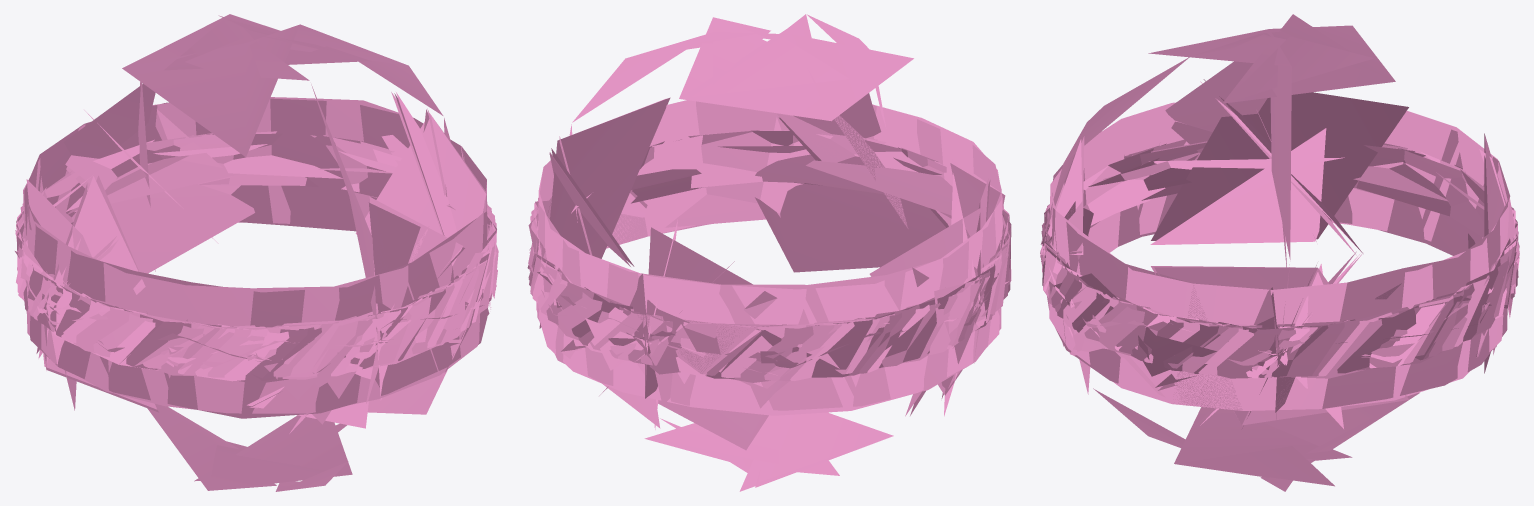
3 renders of one model, left to right at view 1: azimuth 30°, elevation 25°; view 2: azimuth 150°, elevation 25°; view 3: azimuth 270°, elevation 25°, orthographic.
Visible parts, largest first — view 1: 21-21-safety; view 2: 21-21-safety; view 3: 21-21-safety.
Boxes of the visible parts, x1,y1,x2,y2 form: 21-21-safety: (15,14,498,491); 21-21-safety: (527,14,1011,491); 21-21-safety: (1040,14,1519,491).
Size of the model in its own units: 2 by 2 by 2.
